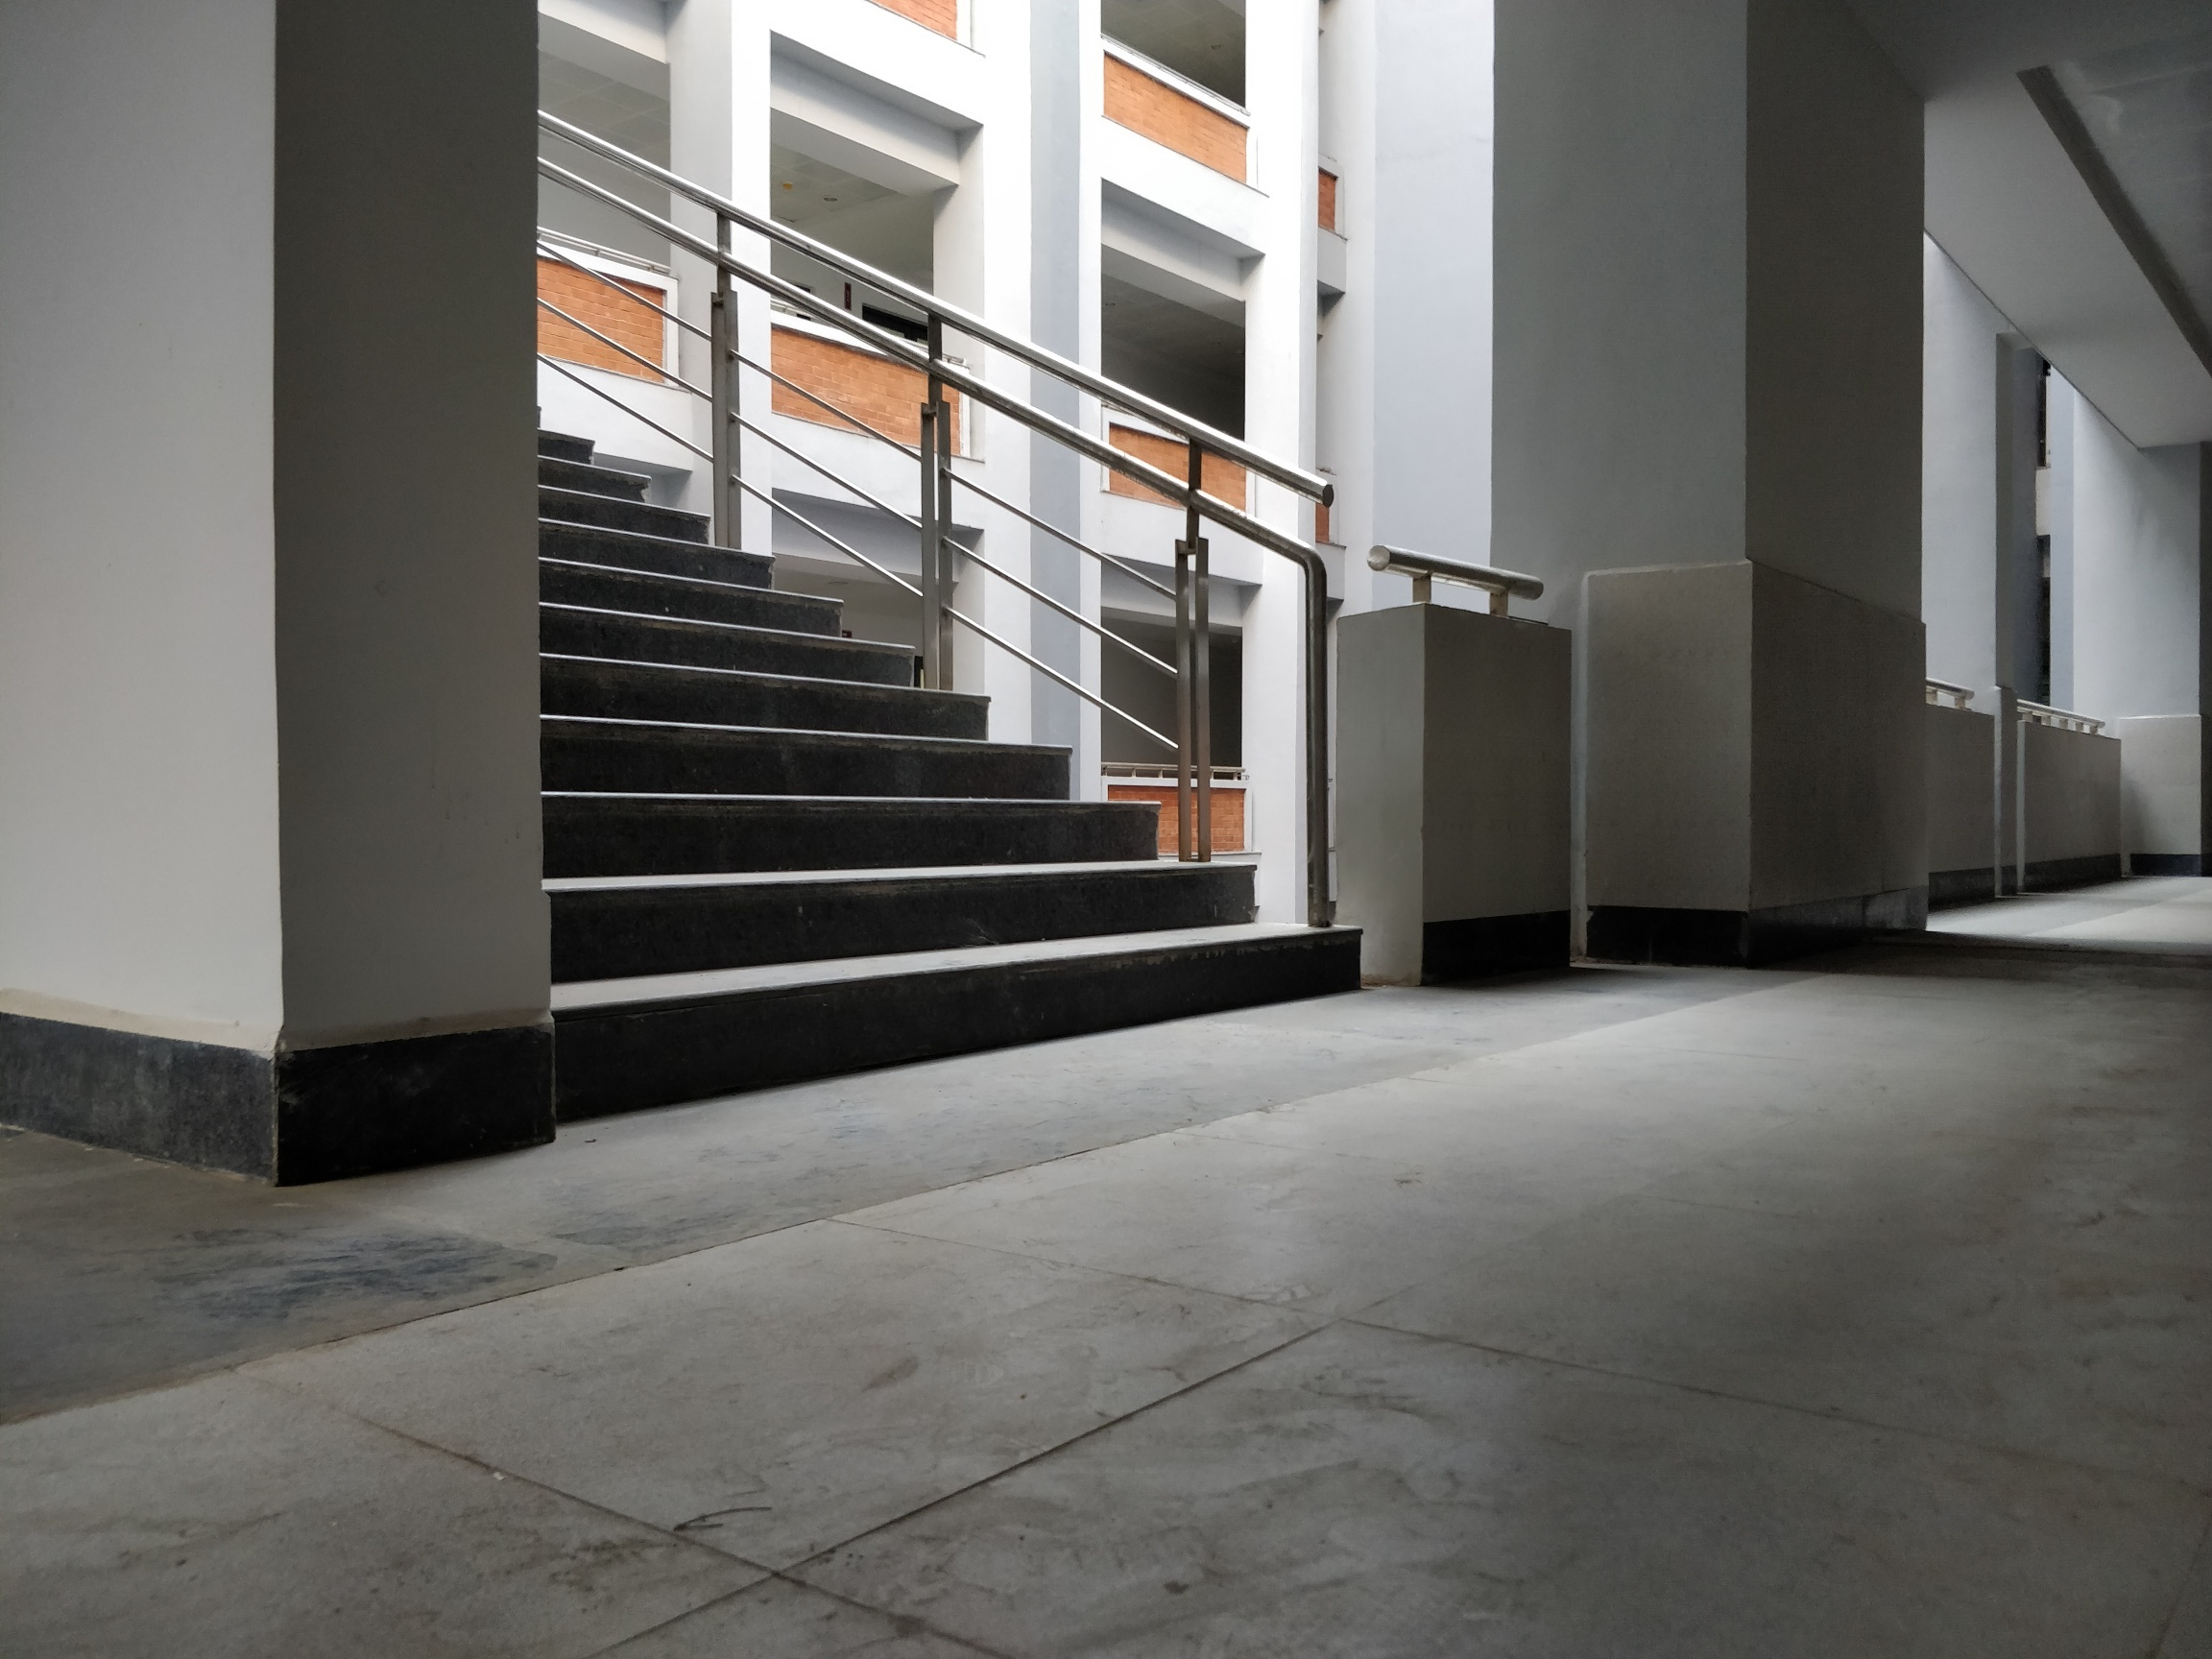stairs_up: (540, 465, 1285, 1063)
